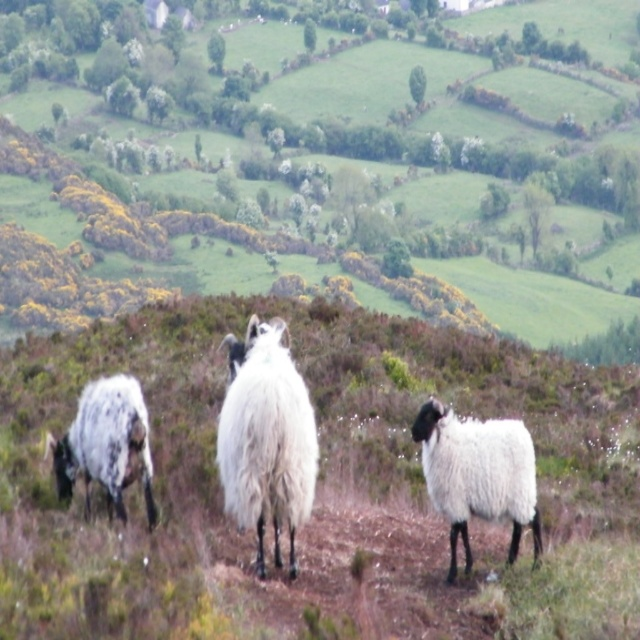Sheep: (44, 314, 544, 583)
